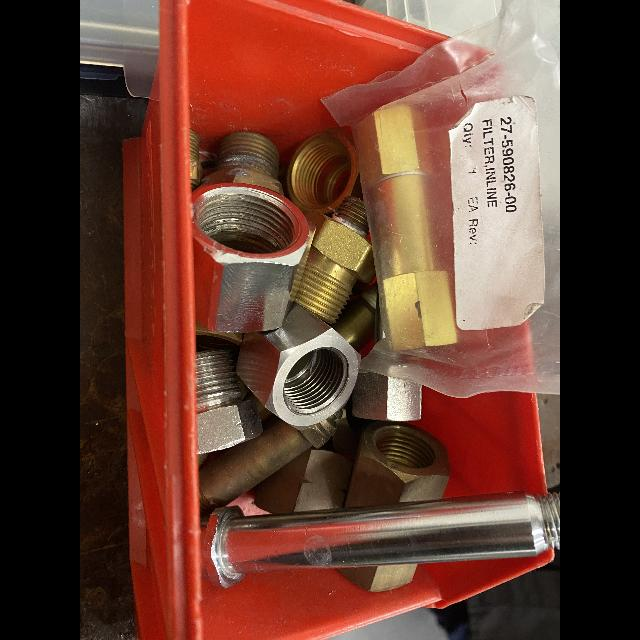Brass: (199, 411, 341, 514), (295, 195, 376, 322), (344, 421, 449, 505), (254, 448, 353, 514), (286, 128, 359, 212), (196, 132, 285, 195), (334, 281, 377, 352), (337, 565, 417, 593), (196, 321, 242, 350), (193, 128, 203, 184)
Stainless Steel: (237, 303, 361, 429), (196, 350, 263, 454), (352, 371, 421, 422)
